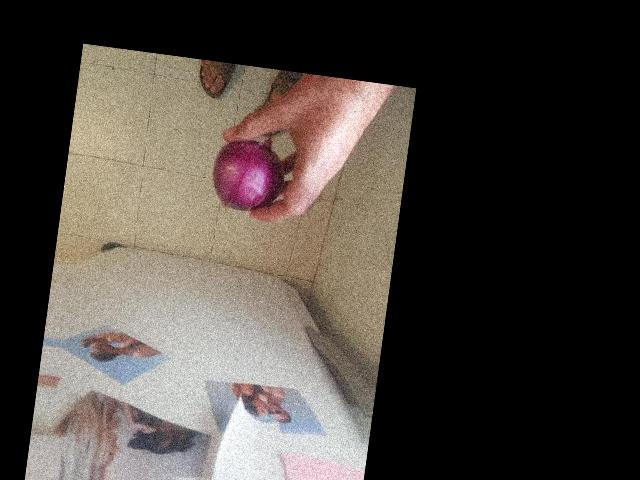onion: (204, 124, 298, 219)
